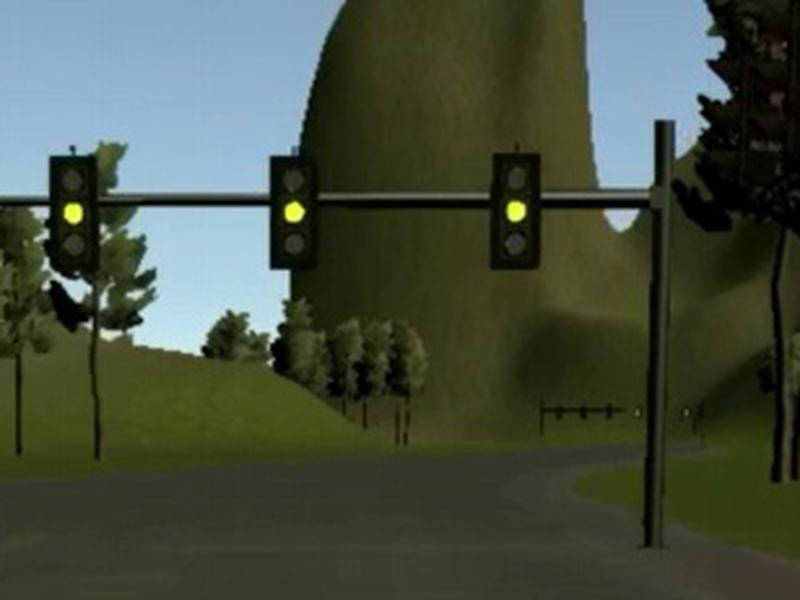Yellow: (490, 151, 541, 271), (268, 154, 316, 271), (49, 154, 97, 270)
